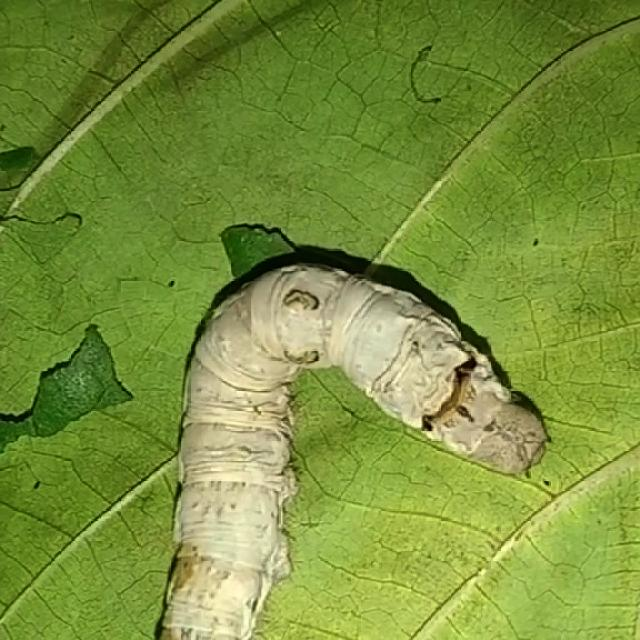Grasserie: (142, 216, 552, 635)
